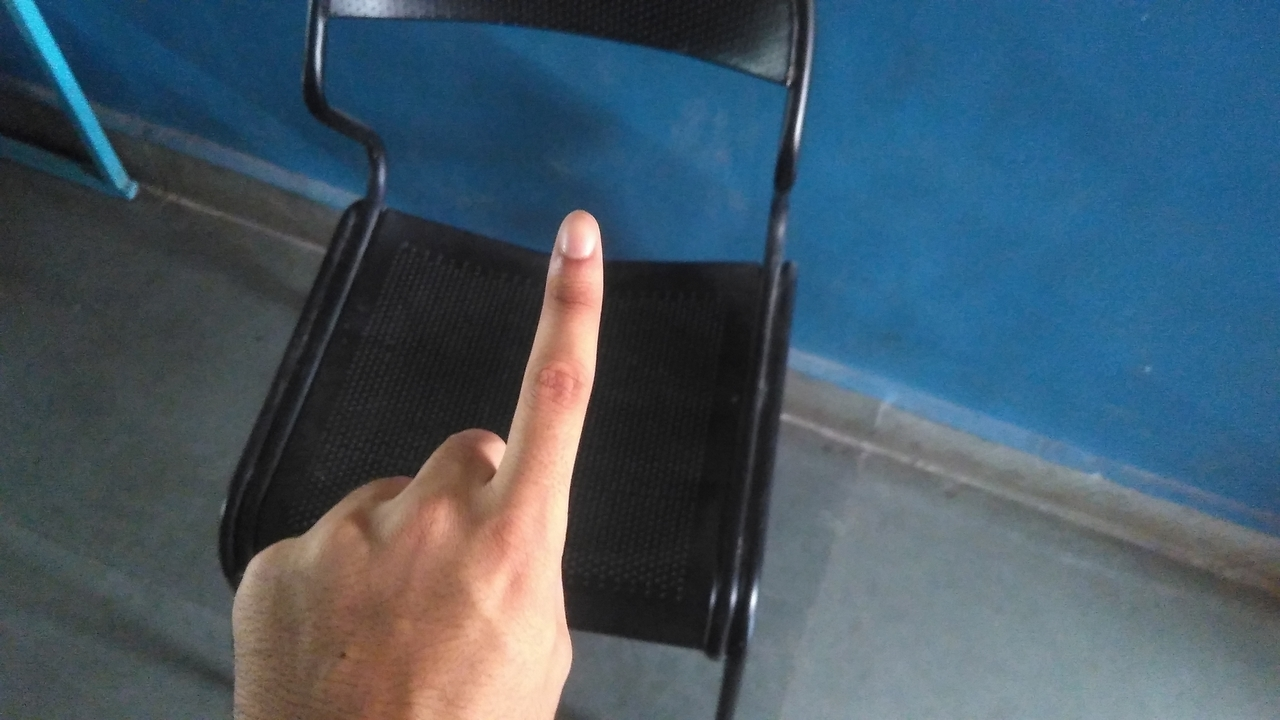fingertip: (542, 202, 606, 266)
